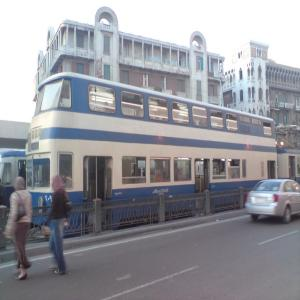Vehicle-registration-plate: (255, 197, 266, 203)
